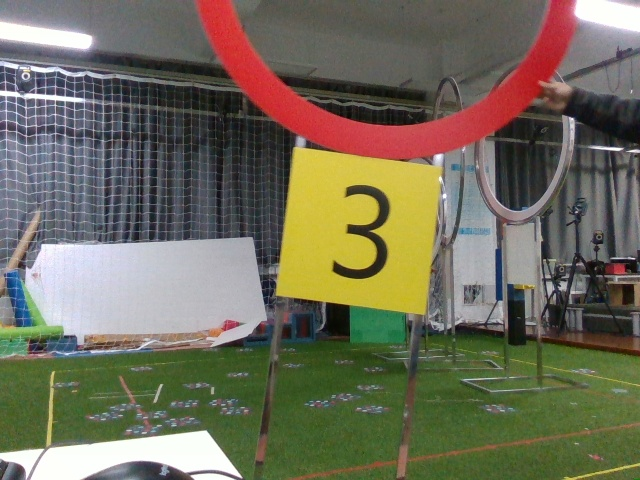target: (287, 164, 429, 299)
